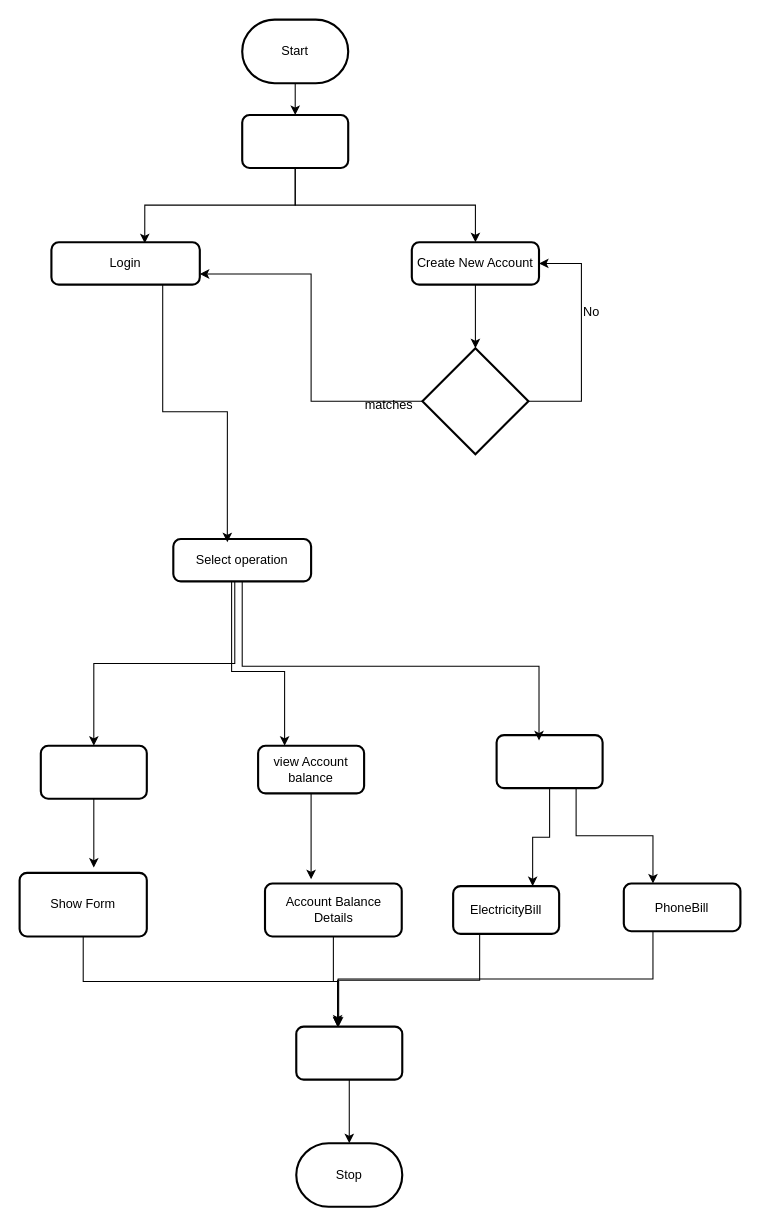
Some shapes in this 759 by 1225 pixel diagram are drawn without their labels. Each missing label, with the box of its shape:
Logout: (295, 1025, 403, 1080)
Money Transfer: (39, 744, 147, 799)
OTP verification: (421, 347, 529, 455)
paybills: (495, 734, 603, 789)
Profile: (241, 113, 349, 169)
